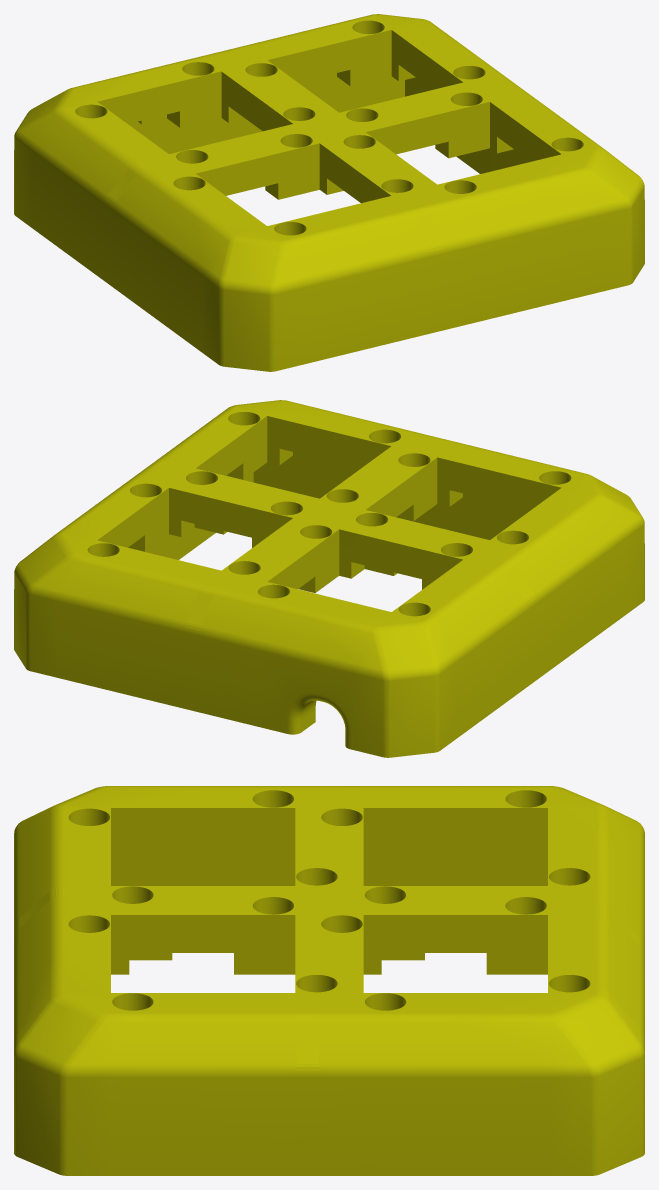
File: Tiefling_Mockup_Smll.dae
The picture shows the model from 3 angles, top to bottom: view 1: azimuth 30°, elevation 25°; view 2: azimuth 150°, elevation 25°; view 3: azimuth 270°, elevation 25°; orthographic projection. The views are drawn at different scales.
Parts seen in each view (by area): view 1: Curve.3927; view 2: Curve.3927; view 3: Curve.3927.
Boxes of the visible parts, x1,y1,x2,y2 form: Curve.3927: (14,14,644,371); Curve.3927: (14,400,644,757); Curve.3927: (14,786,644,1175).
Bounding box in the file's own units: 0.0479 × 0.0479 × 0.0119.
